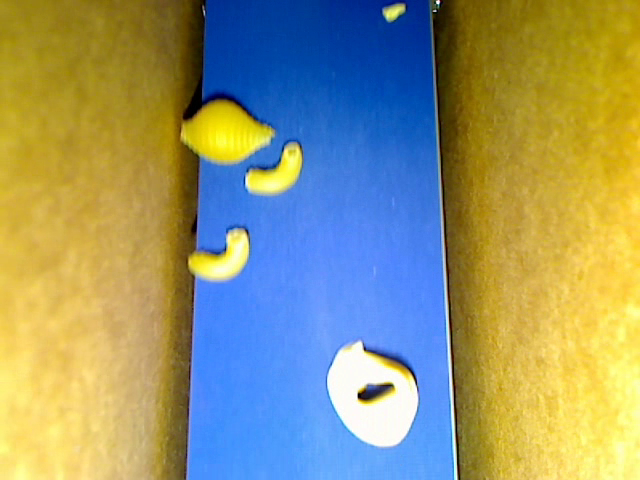elbow: (186, 226, 250, 280), (244, 140, 302, 194)
shell: (178, 99, 275, 168)
tortellini: (327, 339, 418, 447)
